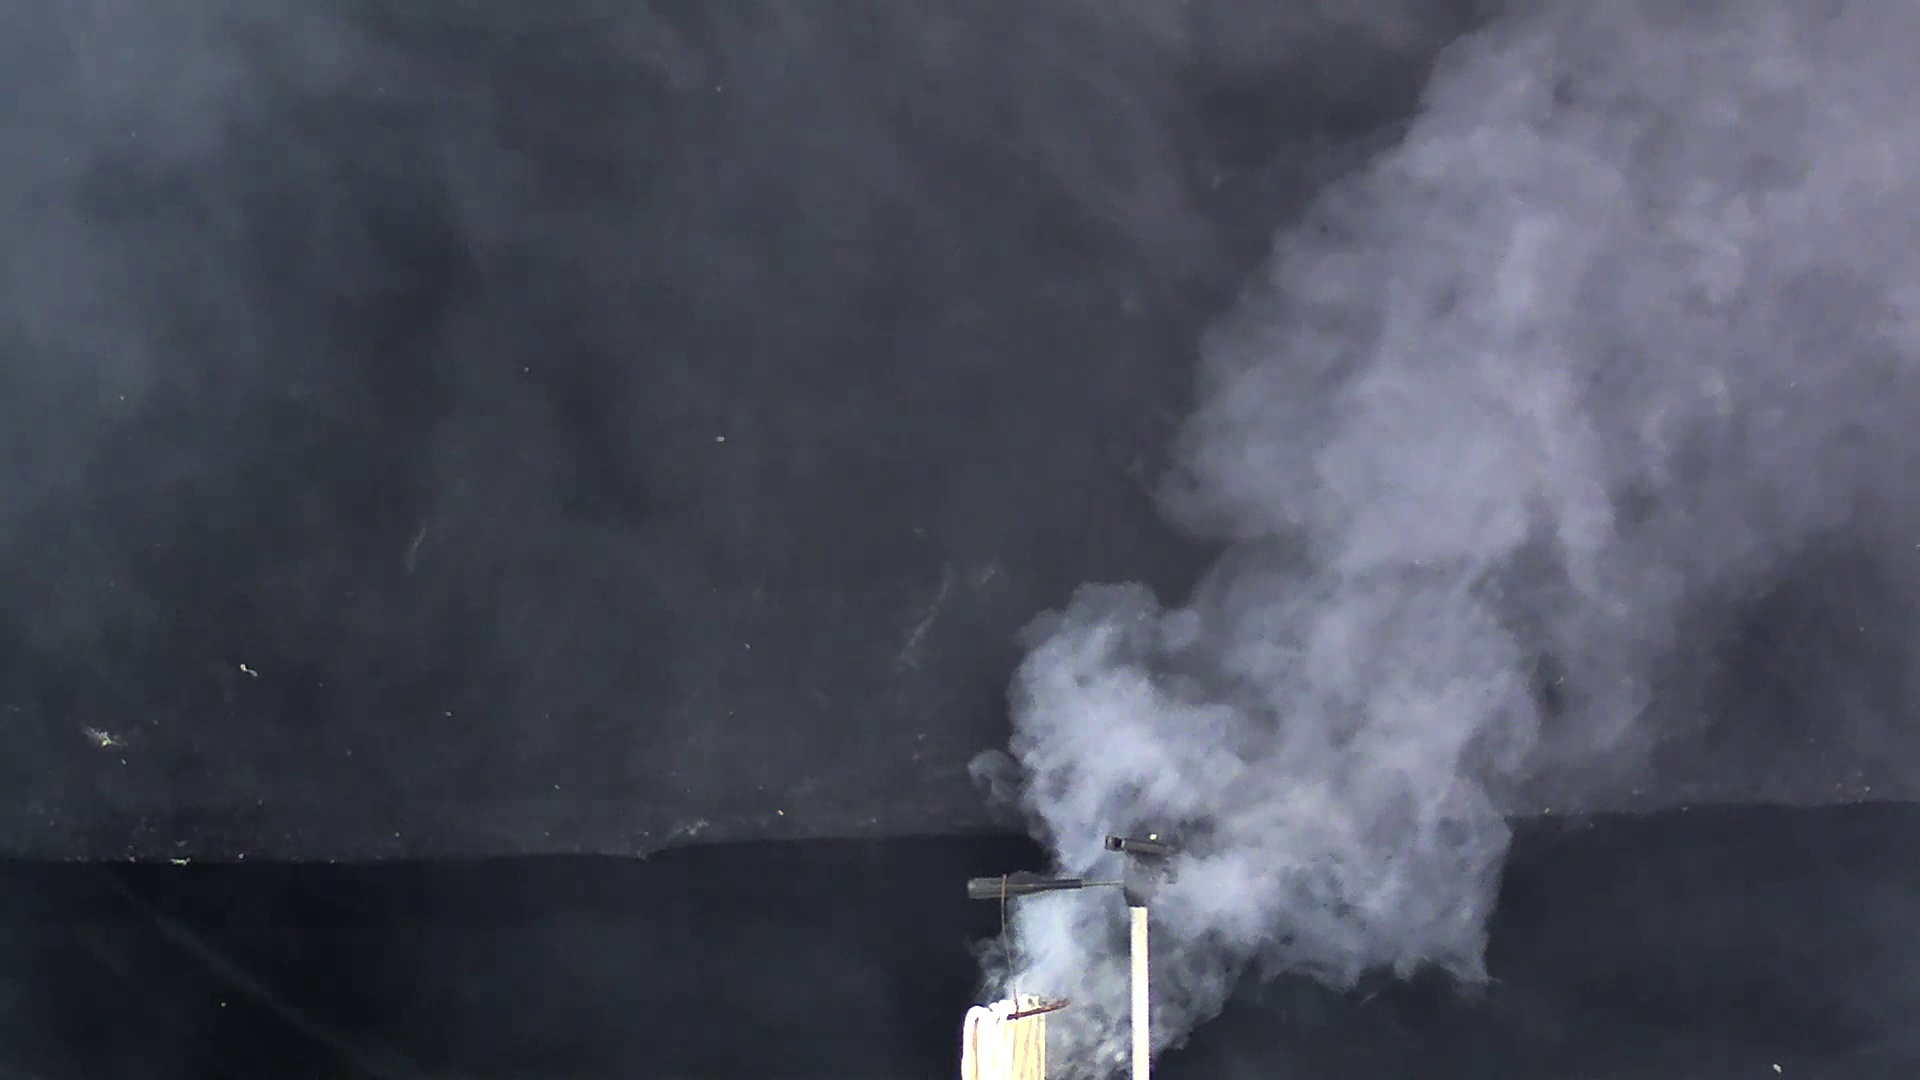smoke: (978, 20, 1892, 1001)
